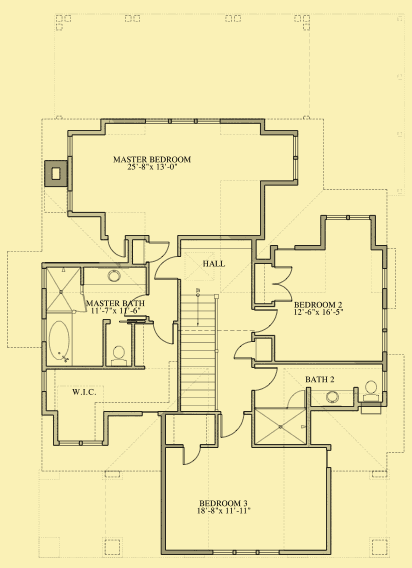door: (271, 263, 295, 303), (139, 236, 170, 265), (121, 289, 152, 318), (151, 253, 182, 282), (215, 410, 246, 439), (247, 365, 278, 394), (248, 306, 279, 335), (106, 235, 130, 258), (151, 321, 175, 344), (230, 340, 254, 363), (179, 443, 203, 466), (285, 388, 309, 411)
large_sink: (359, 378, 380, 401), (108, 344, 128, 365)
small_sink: (83, 267, 144, 286), (309, 388, 354, 409)
stairs: (179, 292, 219, 412)
tub: (45, 310, 74, 366)
window: (140, 117, 221, 126), (322, 213, 374, 223), (56, 437, 108, 447), (211, 550, 282, 557), (292, 135, 299, 181), (380, 307, 387, 353), (40, 263, 51, 290), (63, 134, 74, 157), (40, 369, 50, 391), (64, 190, 74, 210)
